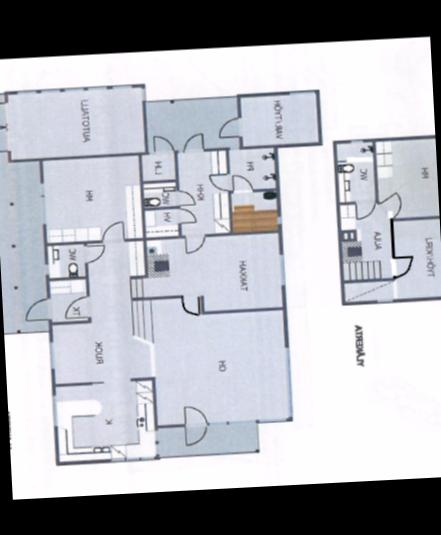door: (22, 294, 54, 322), (62, 292, 94, 319), (180, 418, 208, 447), (375, 189, 402, 219), (98, 218, 126, 245), (178, 401, 207, 426), (215, 114, 242, 140), (390, 252, 415, 280), (81, 240, 107, 266), (206, 168, 232, 194), (178, 132, 206, 156), (182, 230, 206, 256), (227, 172, 254, 194), (353, 196, 376, 221), (151, 133, 177, 155), (178, 292, 200, 316), (174, 188, 196, 208), (177, 206, 198, 226), (0, 95, 10, 127), (0, 125, 10, 154)
window: (280, 342, 294, 419), (156, 449, 258, 459), (275, 251, 287, 291), (46, 390, 58, 428), (36, 195, 48, 228), (45, 338, 56, 372), (253, 418, 262, 452), (224, 418, 258, 426), (284, 86, 318, 94), (372, 296, 395, 306), (60, 82, 85, 90), (36, 85, 61, 93), (205, 418, 227, 426), (107, 455, 126, 464), (12, 88, 40, 94), (107, 82, 134, 88), (84, 84, 108, 90), (42, 260, 50, 276), (37, 180, 45, 196), (150, 426, 158, 442), (153, 440, 160, 458), (138, 454, 158, 460), (273, 214, 283, 226), (347, 137, 367, 142), (124, 456, 138, 463), (226, 145, 242, 151), (143, 149, 154, 154)
